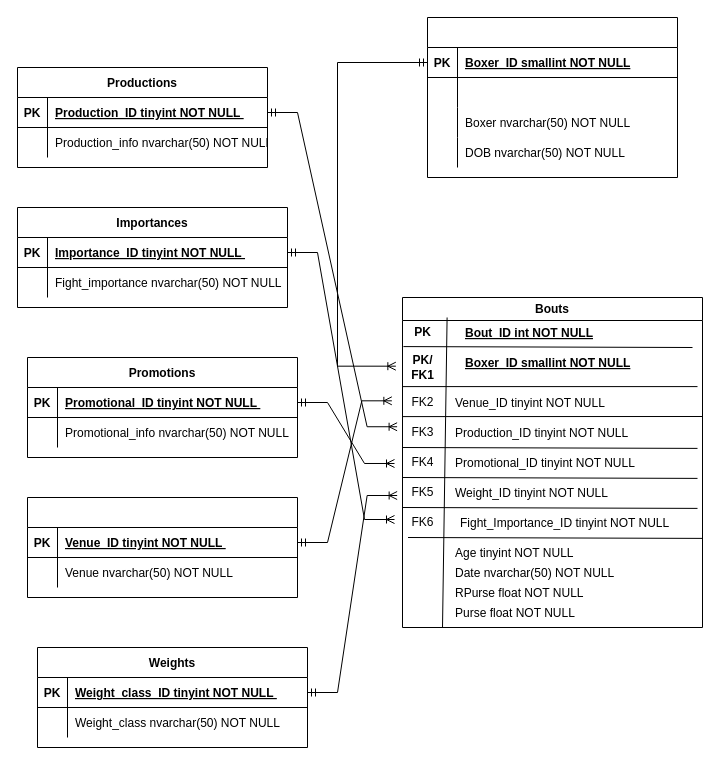
This 721x765 diagram has some shape labels left out. Each missing label, with the box of its shape:
Boxers: (426, 16, 678, 178)
Venues: (26, 496, 298, 598)
